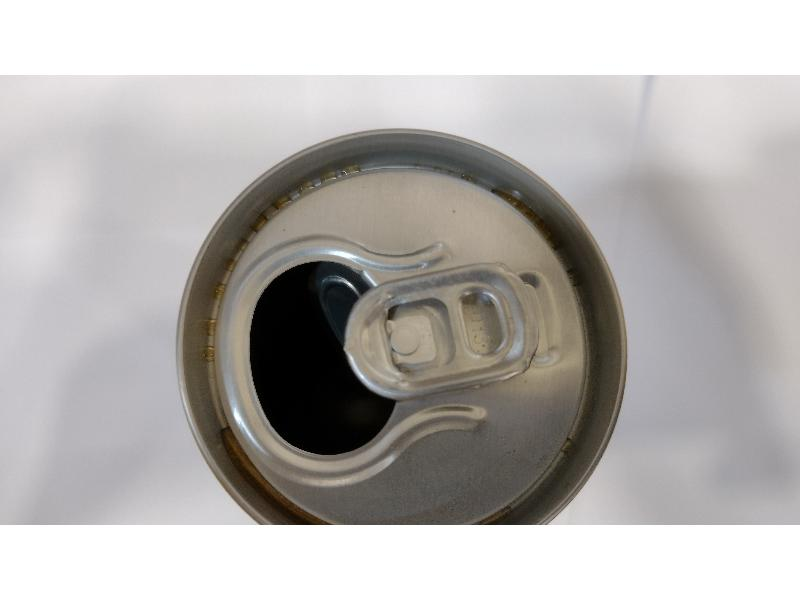can: (162, 121, 631, 523)
